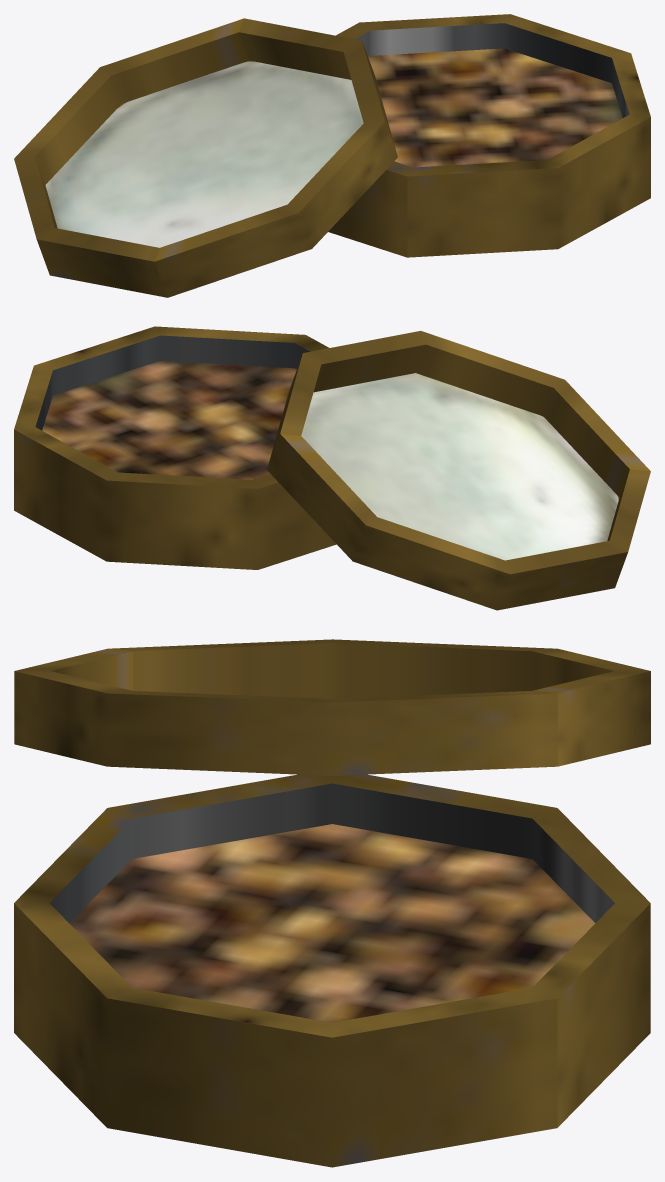
Rendered from CapsPackage.fbx.
3 renders of one model, top to bottom at view 1: azimuth 30°, elevation 25°; view 2: azimuth 150°, elevation 25°; view 3: azimuth 270°, elevation 25°, orthographic. The views are drawn at different scales.
Visible parts, largest first — view 1: Cube.002; view 2: Cube.002; view 3: Cube.002.
Part boxes in pixels (box(x1,y1,x2,y2)): Cube.002: box(14, 14, 650, 297); Cube.002: box(14, 326, 650, 610); Cube.002: box(14, 639, 650, 1167).
Bounding box in the file's own units: 0.0743 × 0.019 × 0.0431.
